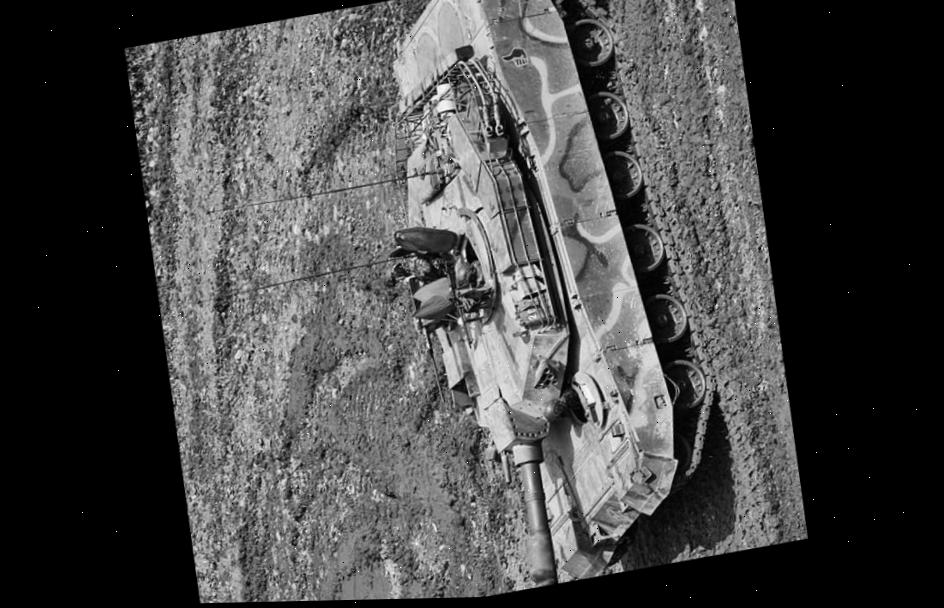person: (376, 246, 458, 294)
tank: (337, 0, 755, 600)
